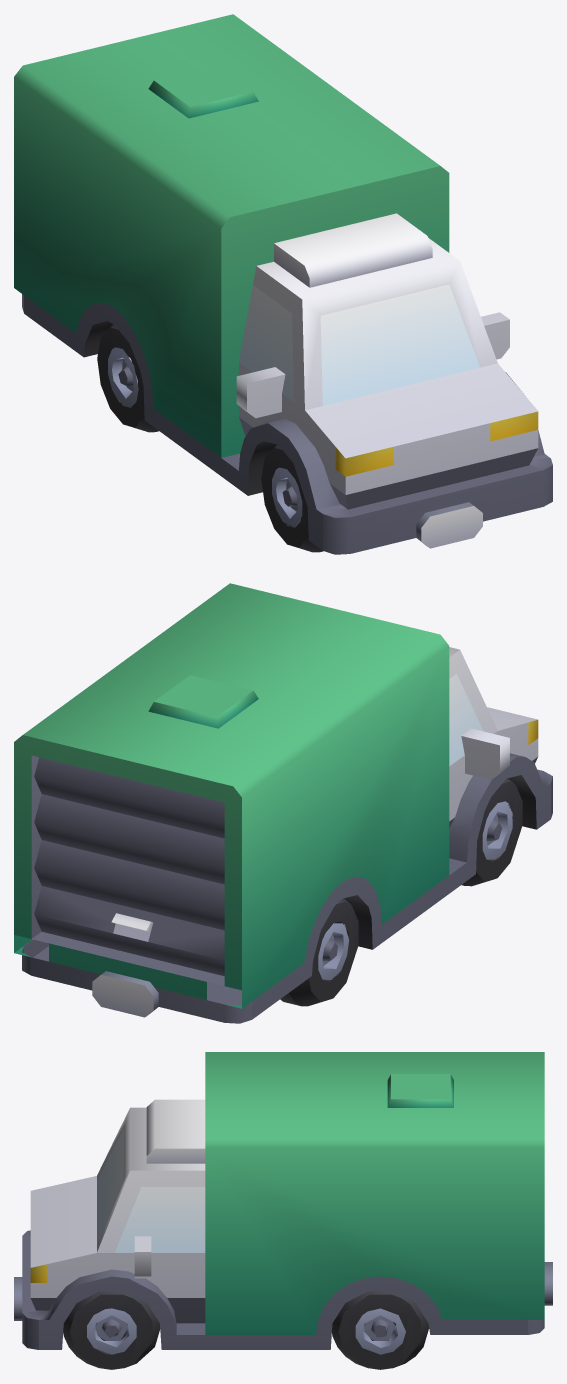
Rendered from delivery.glb.
3 views of the same model, one above another, from view 1: azimuth 30°, elevation 25°; view 2: azimuth 150°, elevation 25°; view 3: azimuth 270°, elevation 25° (orthographic). The views are drawn at different scales.
Visible parts, largest first — view 1: door; view 2: door; view 3: door.
Boxes of the visible parts, <box> form: door: <box>14,14,552,554</box>; door: <box>14,583,552,1023</box>; door: <box>14,1052,552,1369</box>.
Size of the model in its own units: 2.25 by 2.47 by 4.87.
Materials: 1 (1 with a texture image).
